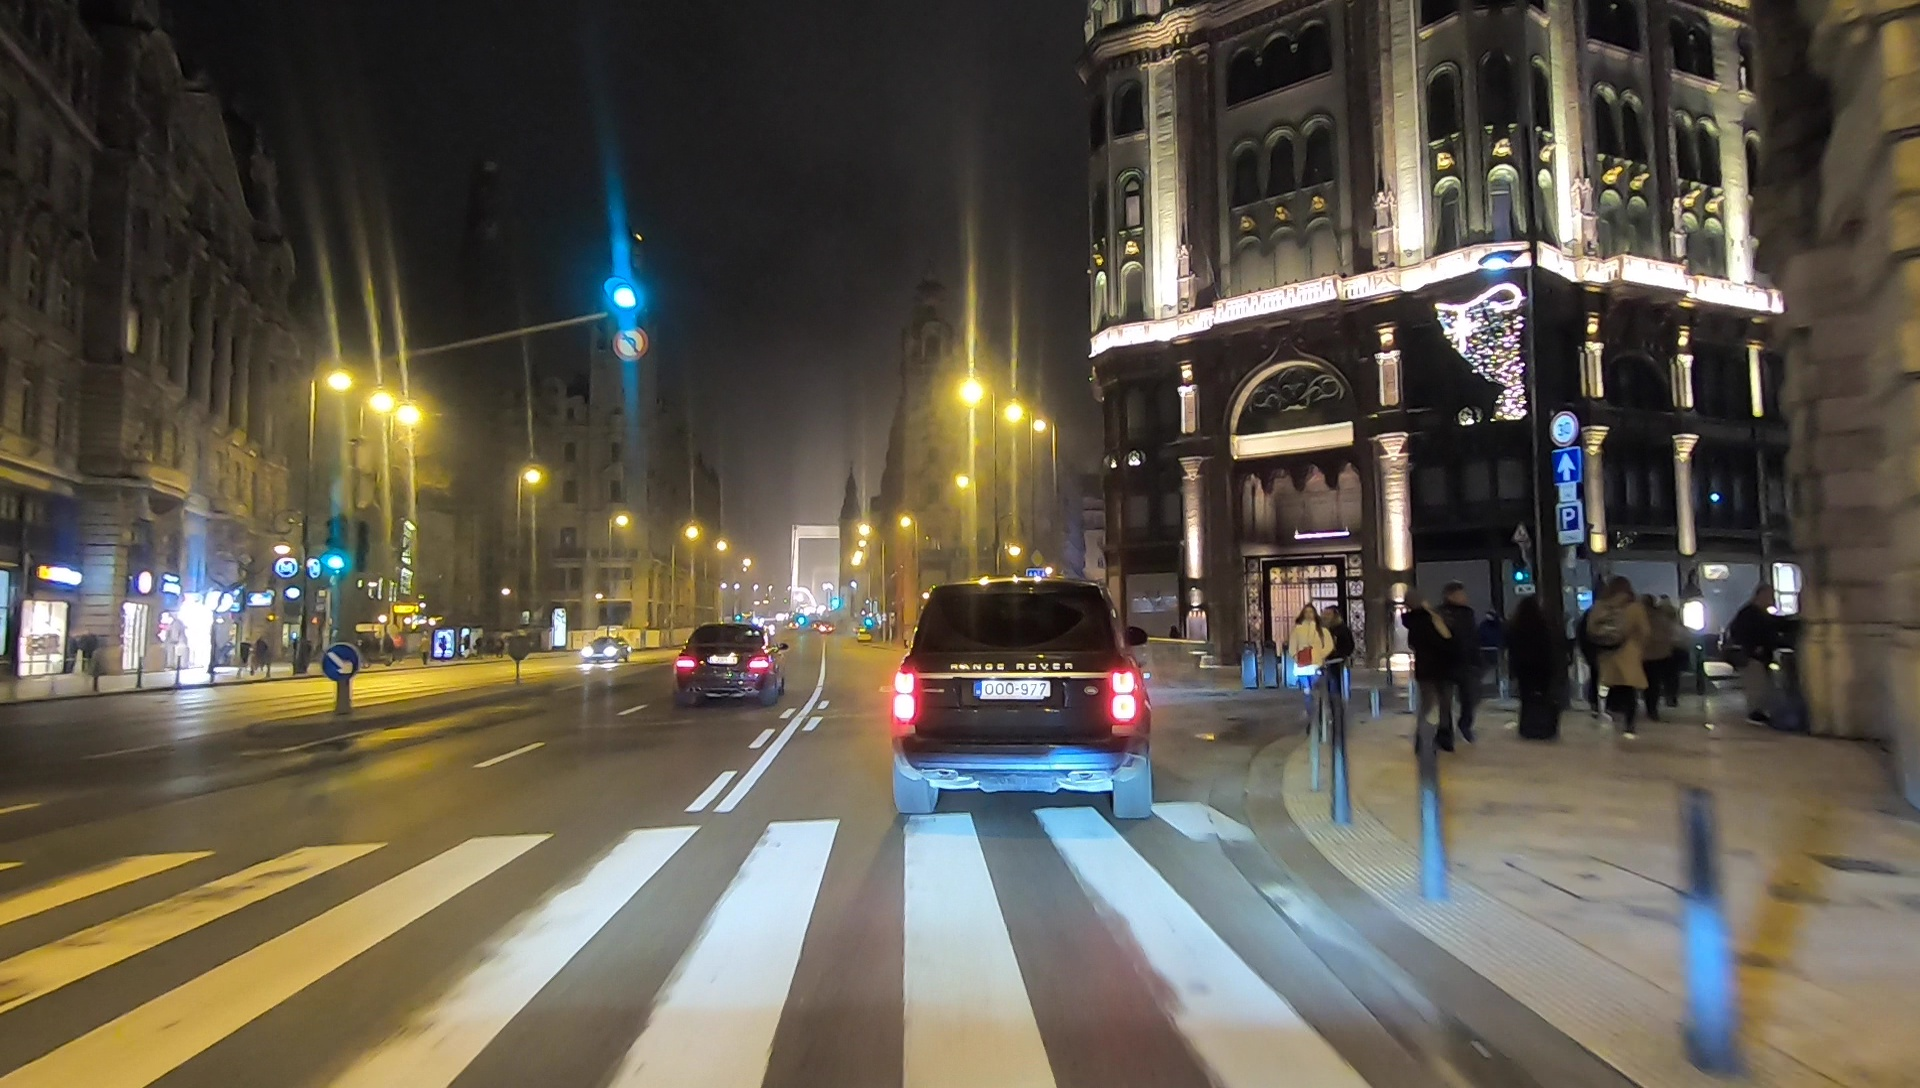person: (1400, 589, 1451, 760), (1595, 574, 1641, 737), (1728, 586, 1779, 725), (1438, 582, 1481, 746), (1318, 604, 1354, 730), (1288, 604, 1323, 731)
